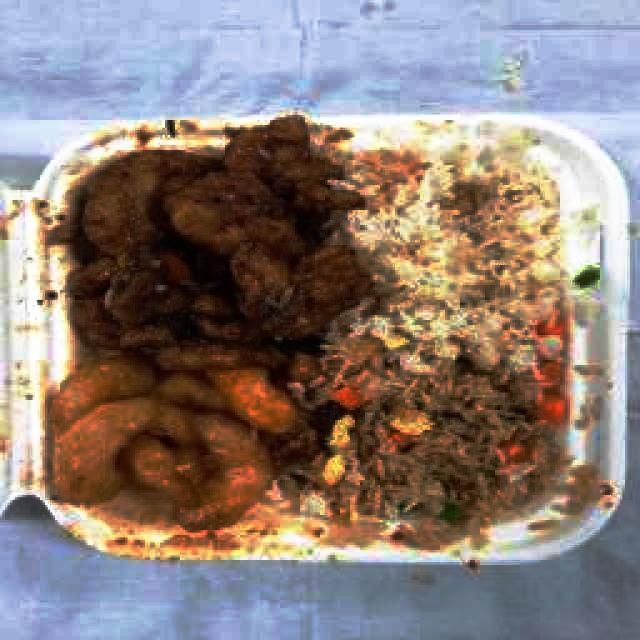Fried Rice: (362, 379, 534, 522)
Kung Pao Chicken: (94, 152, 337, 335)
rice: (367, 160, 552, 344)
